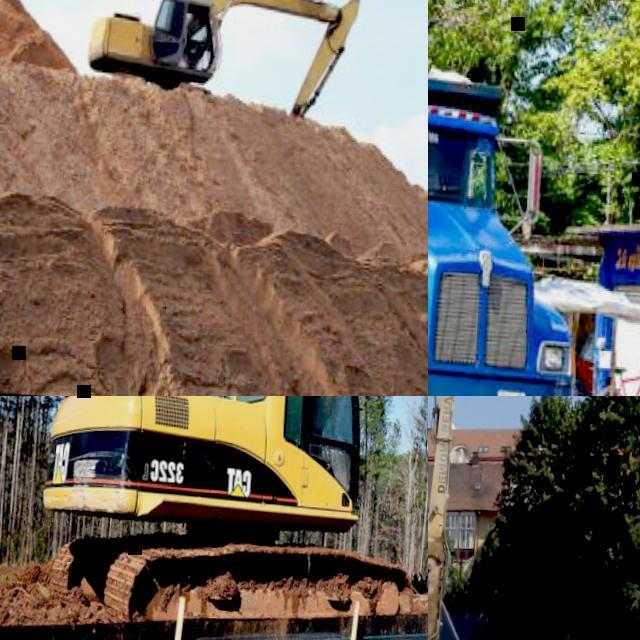machinery: (9, 396, 428, 629), (428, 54, 600, 396), (81, 0, 362, 123), (428, 396, 522, 640)
